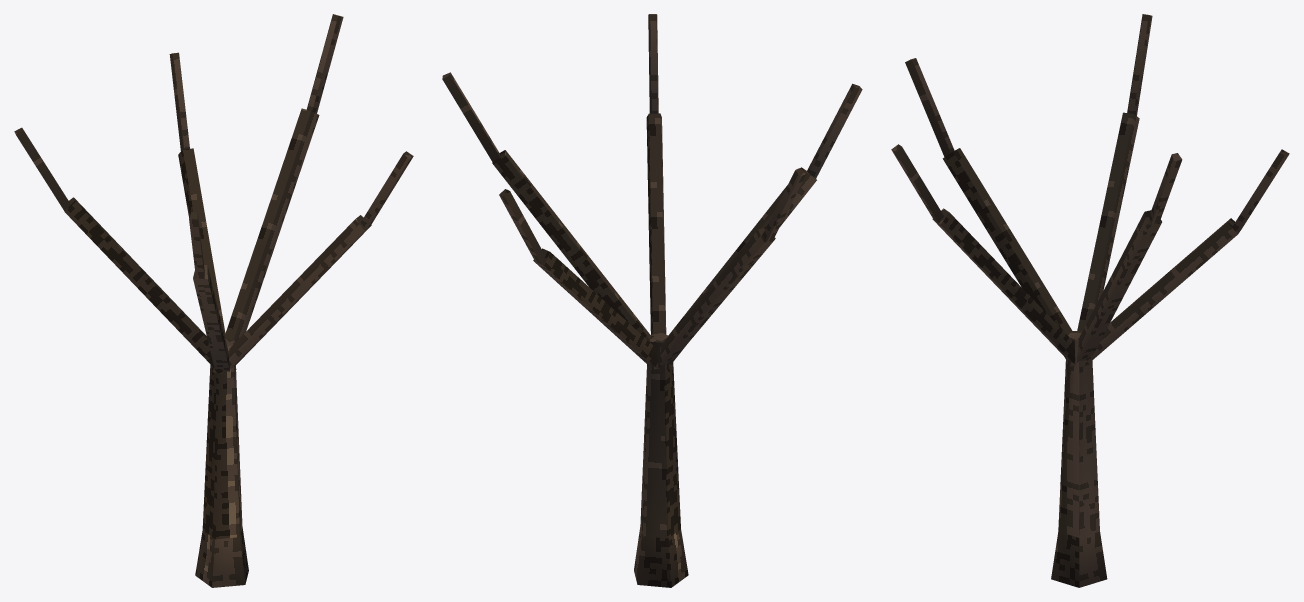
The model's file is mnat.orchard__bare.glb.
The picture shows the model from 3 angles, left to right: view 1: azimuth 30°, elevation 25°; view 2: azimuth 150°, elevation 25°; view 3: azimuth 270°, elevation 25°; orthographic projection. The views are drawn at different scales.
Parts seen in each view (by area): view 1: kit_trunk; view 2: kit_trunk; view 3: kit_trunk.
Boxes of the visible parts, left/top/right/bottom form: kit_trunk: left=14, top=14, right=413, bottom=587; kit_trunk: left=442, top=14, right=862, bottom=587; kit_trunk: left=891, top=14, right=1289, bottom=587.
Size of the model in its own units: 3.14 by 4.28 by 3.09.
Materials: 1 (1 with a texture image).
